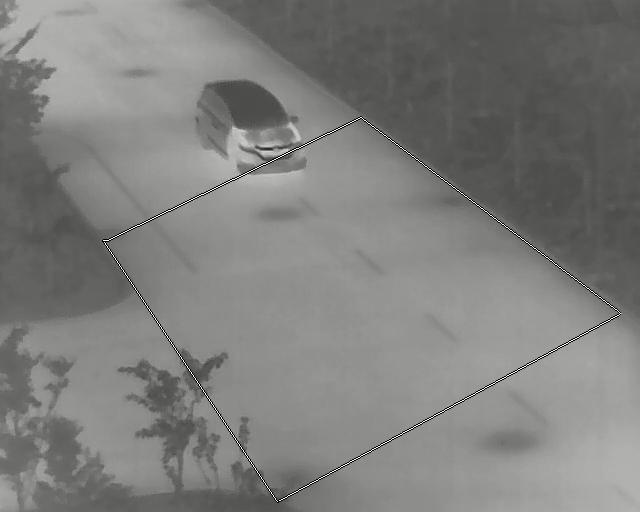vehicle: (193, 79, 307, 172)
